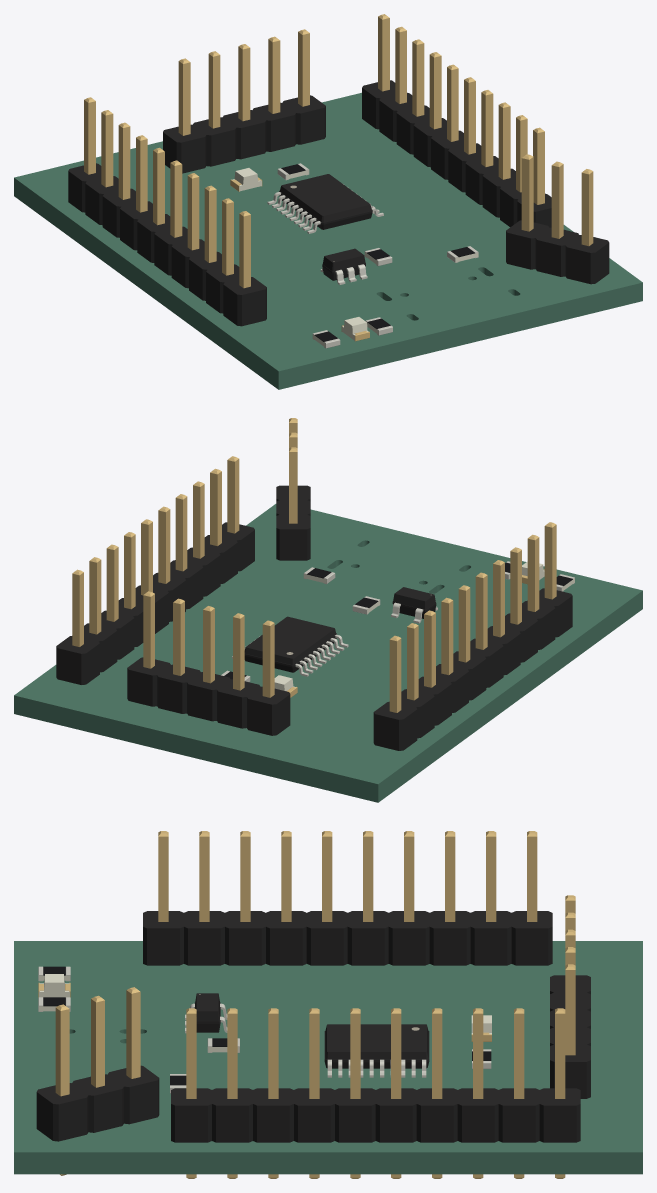
Rendered from CH32-devBoard.glb.
The picture shows the model from 3 angles, top to bottom: view 1: azimuth 30°, elevation 25°; view 2: azimuth 150°, elevation 25°; view 3: azimuth 270°, elevation 25°; orthographic projection. The views are drawn at different scales.
Parts seen in each view (by area): view 1: =>[0:1:1:18], =>[0:1:1:11] (×2), =>[0:1:1:7], =>[0:1:1:15], =>[0:1:1:13], =>[0:1:1:3], =>[0:1:1:5]; view 2: =>[0:1:1:18], =>[0:1:1:11] (×2), =>[0:1:1:7], =>[0:1:1:13], =>[0:1:1:15], =>[0:1:1:3]; view 3: =>[0:1:1:18], =>[0:1:1:11] (×2), =>[0:1:1:15], =>[0:1:1:7], =>[0:1:1:13], =>[0:1:1:3], =>[0:1:1:5].
Boxes of the visible parts, x1=… form: =>[0:1:1:18]: x1=14, y1=92, x2=642, y2=389; =>[0:1:1:11] (×2): x1=68, y1=14, x2=551, y2=326; =>[0:1:1:7]: x1=163, y1=29, x2=325, y2=173; =>[0:1:1:15]: x1=506, y1=154, x2=609, y2=284; =>[0:1:1:13]: x1=267, y1=174, x2=383, y2=233; =>[0:1:1:3]: x1=320, y1=248, x2=367, y2=284; =>[0:1:1:5]: x1=230, y1=168, x2=262, y2=191; =>[0:1:1:18]: x1=14, y1=504, x2=642, y2=802; =>[0:1:1:11] (×2): x1=56, y1=456, x2=572, y2=750; =>[0:1:1:7]: x1=127, y1=591, x2=290, y2=735; =>[0:1:1:13]: x1=232, y1=616, x2=348, y2=676; =>[0:1:1:15]: x1=276, y1=418, x2=310, y2=560; =>[0:1:1:3]: x1=391, y1=587, x2=437, y2=623; =>[0:1:1:18]: x1=14, y1=941, x2=642, y2=1174; =>[0:1:1:11] (×2): x1=143, y1=831, x2=580, y2=1178; =>[0:1:1:15]: x1=36, y1=987, x2=159, y2=1175; =>[0:1:1:7]: x1=550, y1=895, x2=590, y2=1098; =>[0:1:1:13]: x1=324, y1=1024, x2=429, y2=1077; =>[0:1:1:3]: x1=185, y1=993, x2=227, y2=1033; =>[0:1:1:5]: x1=38, y1=974, x2=70, y2=997.
Size of the model in its own units: 0.031 by 0.0115 by 0.039.
